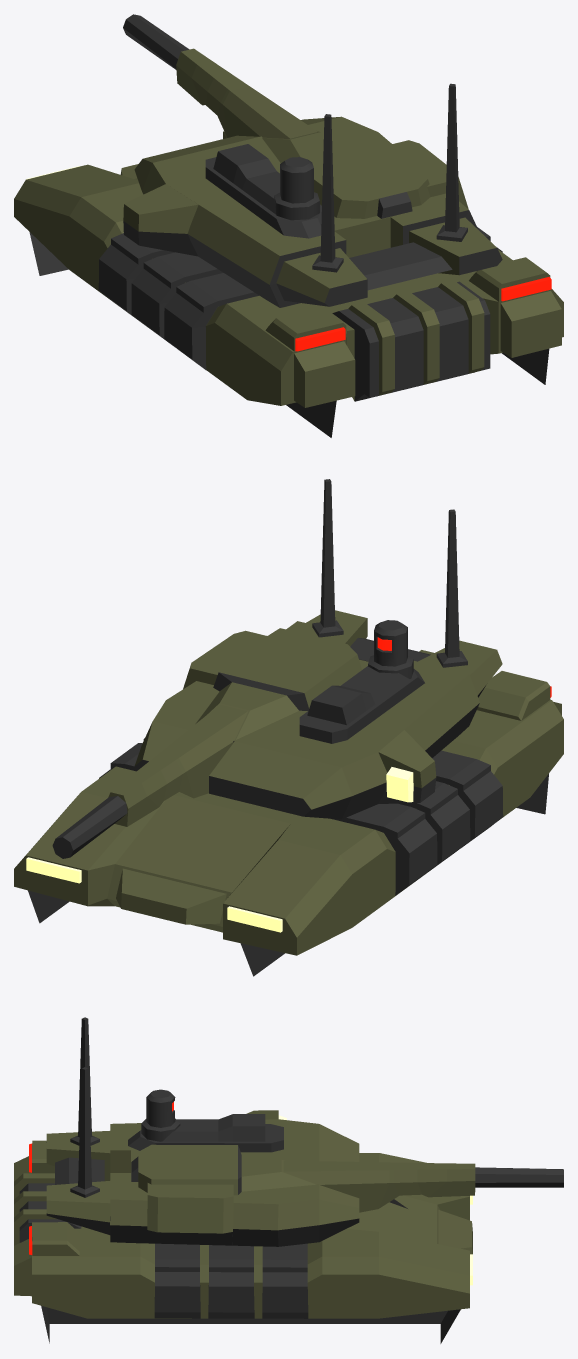
Rendered from MediumTank.glb.
3 views of the same model, one above another, from view 1: azimuth 30°, elevation 25°; view 2: azimuth 150°, elevation 25°; view 3: azimuth 270°, elevation 25° (orthographic). The views are drawn at different scales.
Parts seen in each view (by area): view 1: Body, Turret, Turret.005, Barrel; view 2: Body, Turret, Barrel, Turret.005; view 3: Body, Turret, Barrel, Turret.005.
Part boxes in pixels (bbox=[...]): Body: bbox=[14, 131, 563, 437]; Turret: bbox=[123, 48, 502, 307]; Turret.005: bbox=[274, 157, 319, 220]; Barrel: bbox=[123, 14, 189, 69]; Body: bbox=[14, 621, 563, 976]; Turret: bbox=[108, 479, 502, 826]; Barrel: bbox=[52, 796, 127, 858]; Turret.005: bbox=[368, 620, 413, 678]; Body: bbox=[14, 1140, 472, 1343]; Turret: bbox=[46, 1017, 475, 1246]; Barrel: bbox=[475, 1167, 563, 1187]; Turret.005: bbox=[141, 1089, 180, 1141].
Size of the model in its own units: 3.83 by 3.57 by 7.16.
